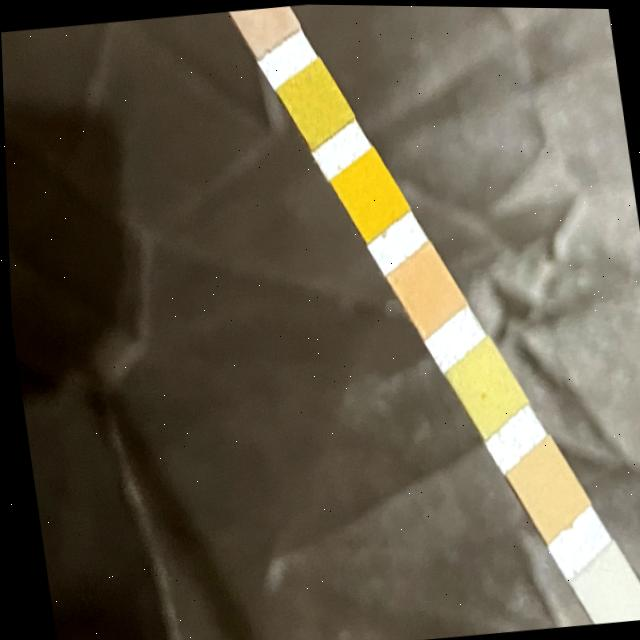Blood: (346, 161, 389, 227)
Ketone: (241, 5, 284, 44)
Nitrite: (585, 554, 629, 622)
Protein: (460, 351, 505, 422)
SpGravity: (291, 75, 337, 132)
Urobilinogen: (520, 452, 568, 526)
pH: (402, 257, 447, 323)
